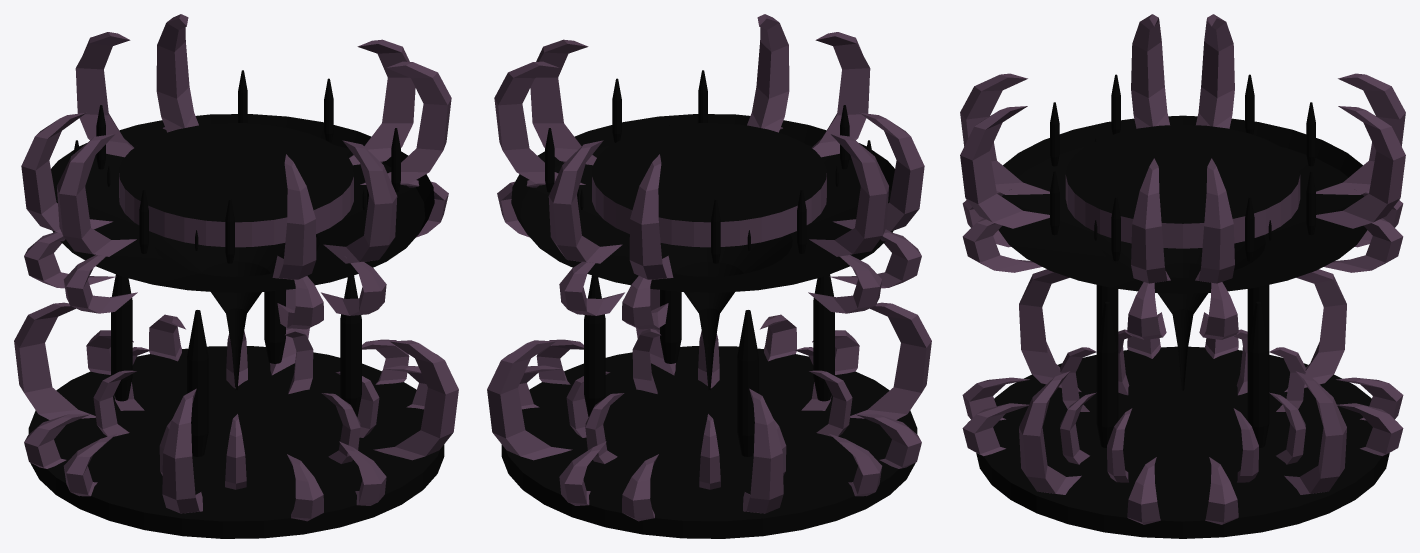
File: DarkMagicTower.fbx
The picture shows the model from 3 angles, left to right: view 1: azimuth 30°, elevation 25°; view 2: azimuth 150°, elevation 25°; view 3: azimuth 270°, elevation 25°; orthographic projection.
Parts seen in each view (by area): view 1: Circle, Circle.001, Claw.007, Claw.008, Claw, Spike.002, Claw.003, Claw.004, Claw.006, Claw.001, Claw.002, Claw.005 (+2 smaller); view 2: Circle, Circle.001, Claw.007, Claw.008, Claw, Spike.002, Claw.003, Claw.004, Claw.006, Claw.001, Claw.002, Claw.005 (+2 smaller); view 3: Circle.001, Circle, Claw.008, Claw.007, Claw, Spike.002, Claw.003, Claw.005, Claw.002, Claw.004, Claw.001, Claw.006 (+2 smaller).
Part boxes in pixels (x1,y1,x2,y2): Circle: (28, 346, 444, 538); Circle.001: (51, 114, 434, 390); Claw.007: (21, 39, 451, 256); Claw.008: (75, 14, 397, 279); Claw: (14, 289, 458, 513); Spike.002: (111, 274, 361, 456); Claw.003: (86, 314, 386, 521); Claw.004: (24, 339, 427, 496); Claw.006: (24, 161, 448, 313); Claw.001: (93, 328, 379, 475); Claw.002: (114, 331, 360, 489); Claw.005: (163, 127, 386, 329); Circle: (501, 346, 917, 538); Circle.001: (511, 114, 894, 390); Claw.007: (494, 39, 924, 256); Claw.008: (548, 14, 870, 279); Claw: (487, 289, 931, 513); Spike.002: (584, 274, 834, 456); Claw.003: (559, 314, 859, 521); Claw.004: (518, 339, 921, 496); Claw.006: (497, 161, 921, 313); Claw.001: (566, 328, 852, 475); Claw.002: (585, 331, 831, 489); Claw.005: (559, 127, 782, 329); Circle.001: (998, 115, 1367, 391); Circle: (976, 346, 1389, 538); Claw.008: (960, 73, 1405, 228); Claw.007: (1131, 14, 1234, 283); Claw: (1019, 269, 1346, 494); Spike.002: (1096, 285, 1269, 447); Claw.003: (962, 377, 1403, 456); Claw.005: (962, 189, 1403, 272); Claw.002: (1060, 347, 1305, 464); Claw.004: (1127, 336, 1238, 524); Claw.001: (1107, 329, 1258, 482); Claw.006: (1127, 282, 1238, 339).
Bounding box in the file's own units: 633 × 556 × 626.
